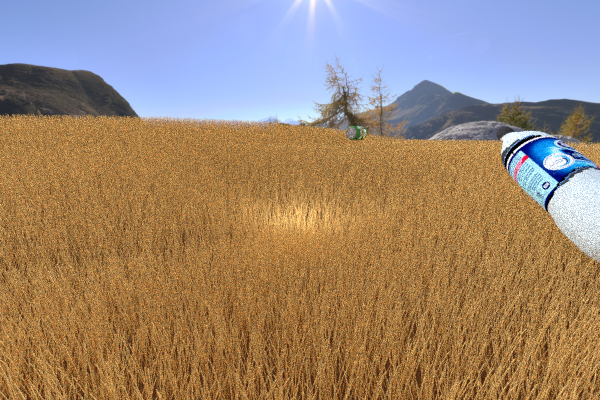Plastic Bottle: (496, 126, 600, 275), (227, 118, 269, 143), (345, 125, 367, 140)
